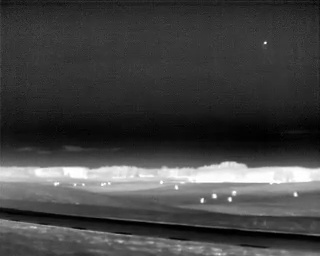BIRD: (261, 38, 269, 48)
